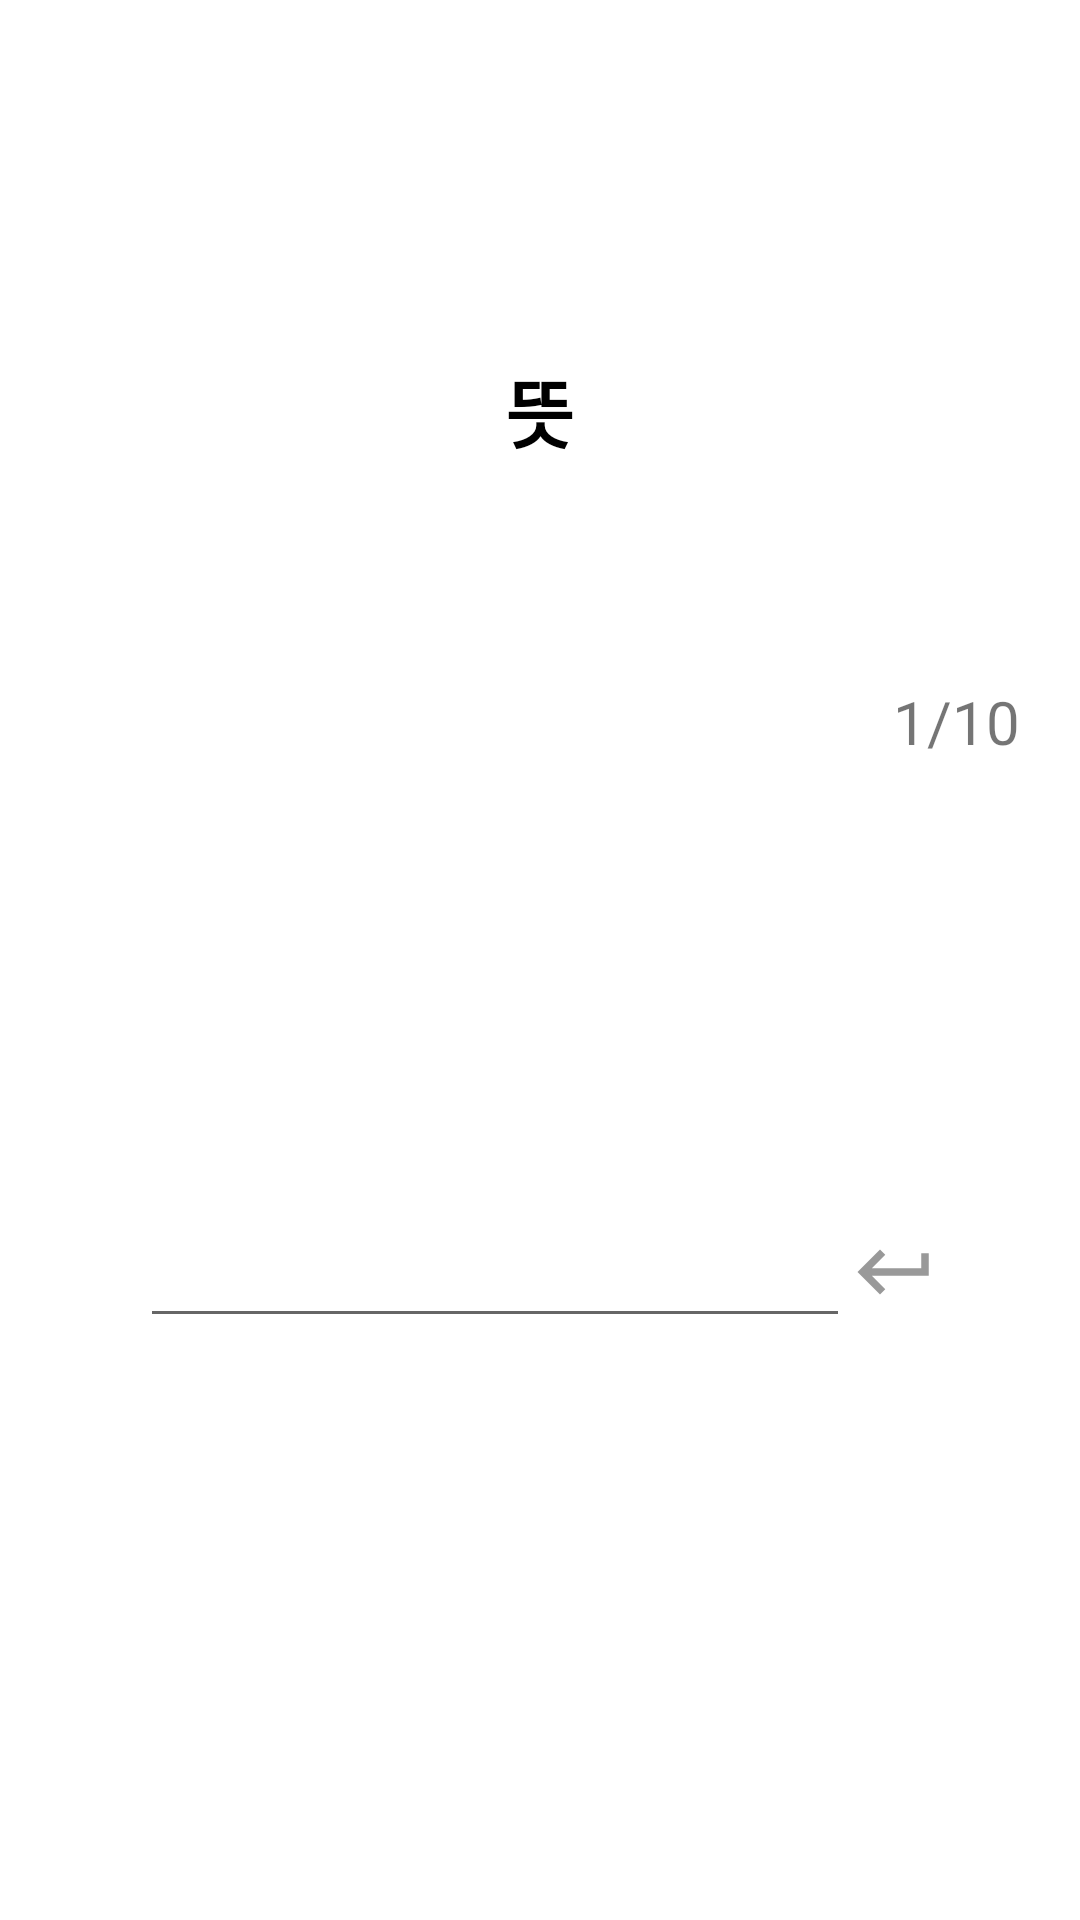

Screen size 1080w x 1920h. Icon name, then its center in pixels as (x,y):
keyboard return: (893,1272)
